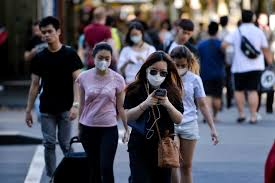no-mask: (35, 16, 68, 46), (172, 17, 196, 44)
with-mask: (138, 52, 173, 90), (164, 47, 198, 77), (91, 44, 116, 77), (122, 22, 149, 45)
